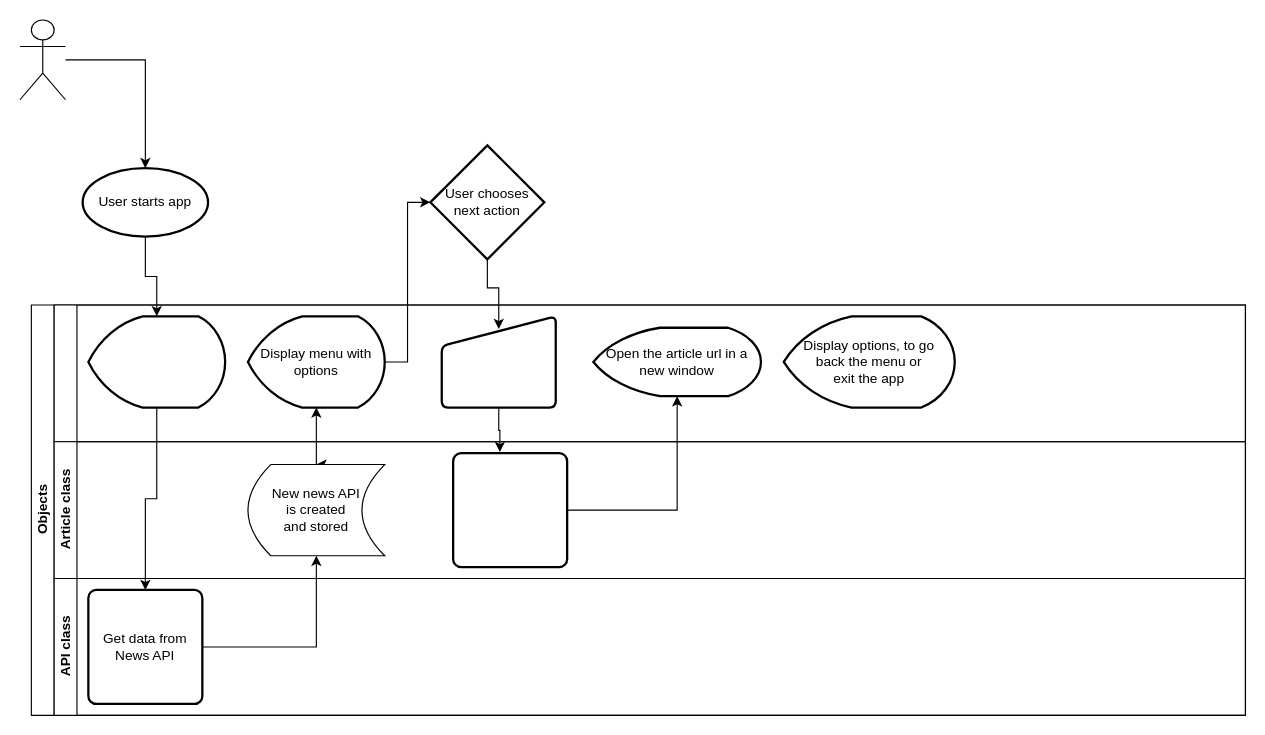
Some shapes in this 1265 by 735 pixel diagram are drawn without their labels. The shapes that lost their labels are listed below. From the top down, each one's box as (x1, y1, x2, y2) in pixels, then its label:
(19, 19, 66, 100): User
(87, 315, 226, 408): Display greeting
(440, 315, 556, 408): User input from options
(53, 304, 1245, 442): CLI class
(451, 451, 568, 568): Retrive the article the user requested
